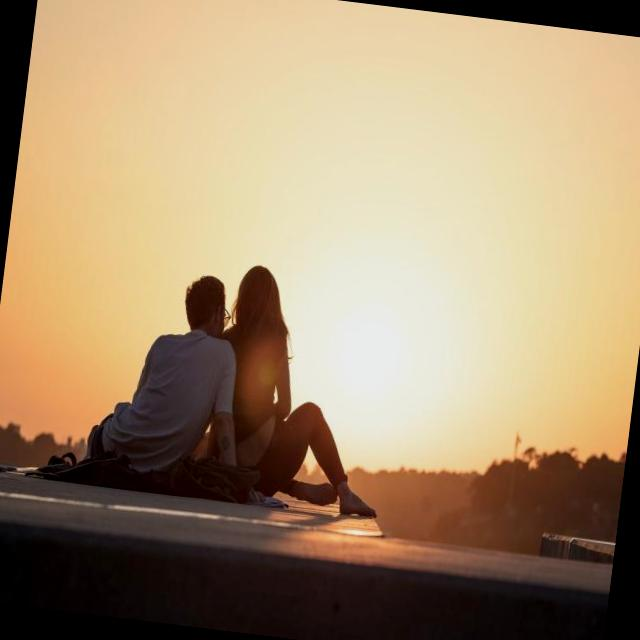person: (196, 260, 404, 518), (83, 262, 260, 486)
